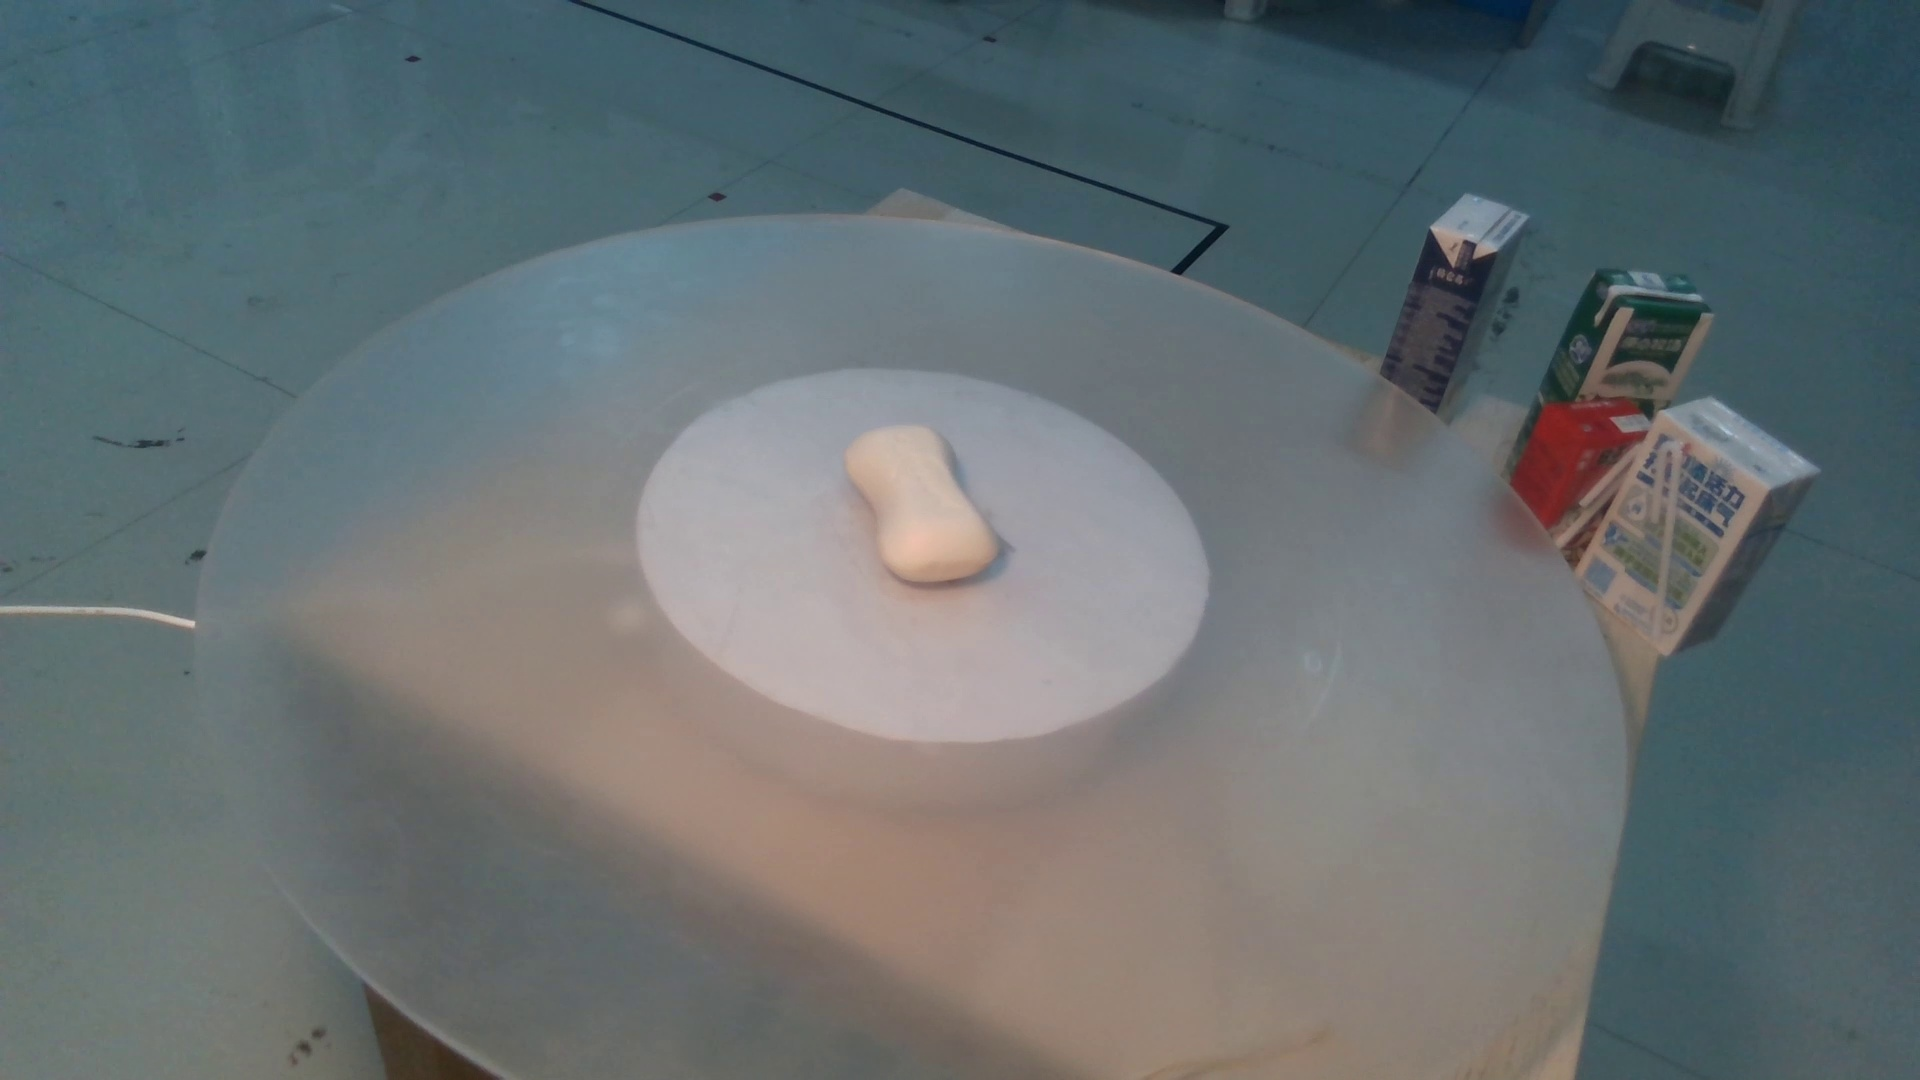CA003_1: (808, 402, 1093, 629)
